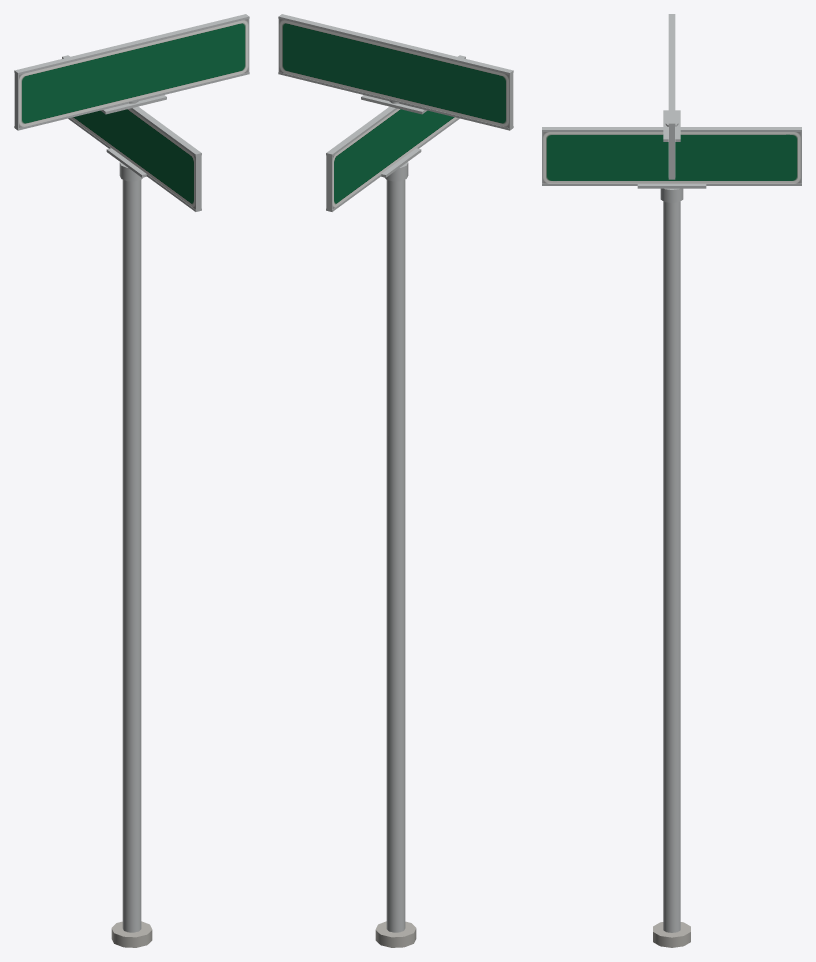
File: street_sign.glb
3 renders of one model, left to right at view 1: azimuth 30°, elevation 25°; view 2: azimuth 150°, elevation 25°; view 3: azimuth 270°, elevation 25°, orthographic. The views are drawn at different scales.
Visible parts, largest first — view 1: street_sign_body, Blade_A, Blade_B; view 2: street_sign_body, Blade_A, Blade_B; view 3: street_sign_body, Blade_B, Blade_A.
Part boxes in pixels (x1,y1,x2,y2): street_sign_body: (100, 95, 166, 947); Blade_A: (14, 14, 249, 130); Blade_B: (62, 55, 201, 211); street_sign_body: (361, 95, 427, 947); Blade_A: (278, 14, 513, 130); Blade_B: (326, 55, 465, 211); street_sign_body: (637, 110, 706, 947); Blade_B: (542, 127, 801, 185); Blade_A: (668, 14, 675, 179).
Bounding box in the file's own units: 0.0454 × 0.1679 × 0.0454.
Materials: 2 (2 with a texture image).
